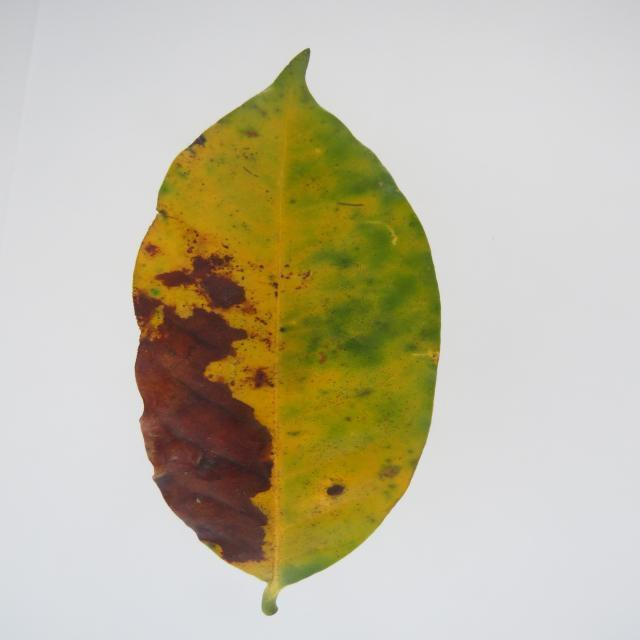DeficienciaNutricional-Fosforo: (133, 50, 440, 615)
